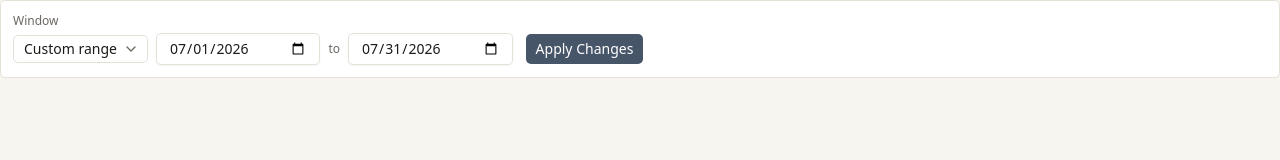
Test: ParametersBar pending changes › compares a range by its dates, not by object identity
In the date field named "Window start": (238, 49) [156,33,320,65], type "2026-07-10"
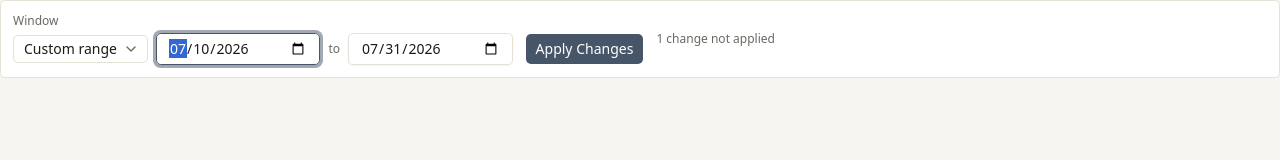
Now the message reads "1 change not applied", box [656,30,775,47]
In the date field named "Window start": (238, 49) [156,33,320,65], type "2026-07-01"
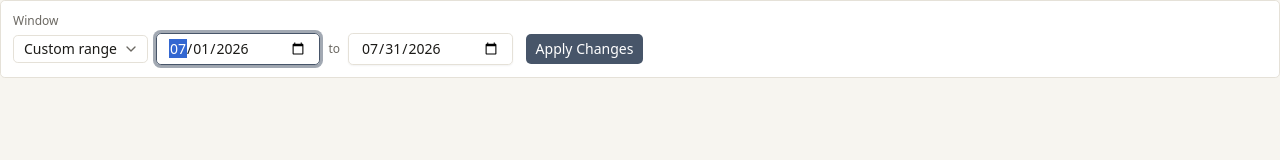
Now the message "1 change not applied" is gone
